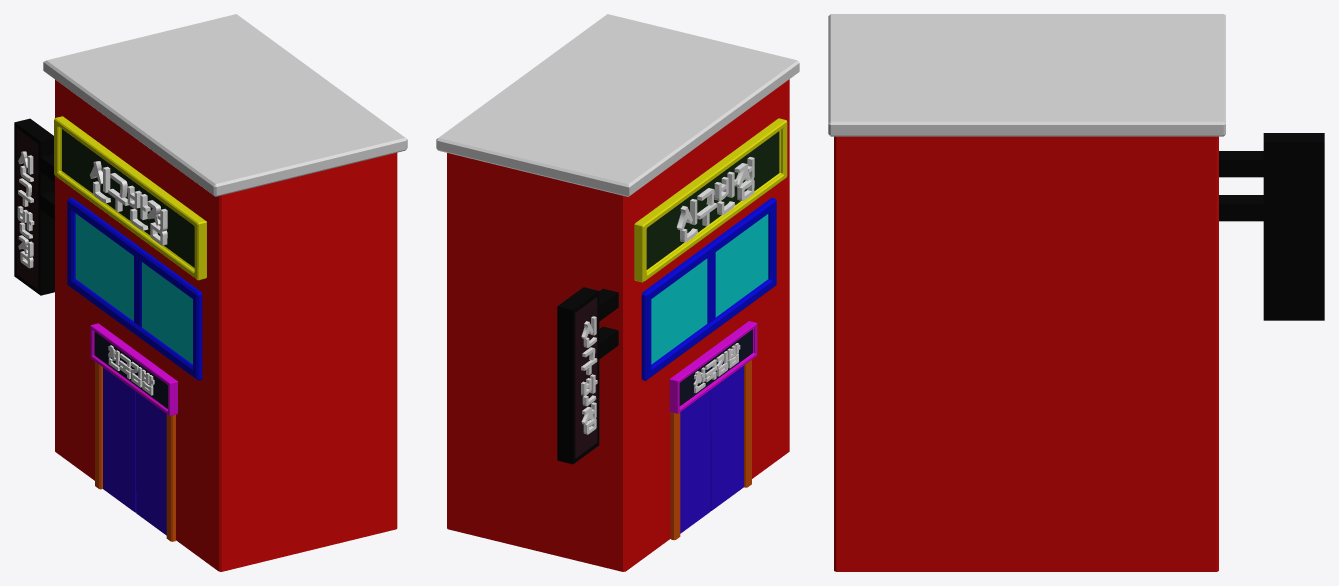
The model's file is Building_2_2.fbx.
3 renders of one model, left to right at view 1: azimuth 30°, elevation 25°; view 2: azimuth 150°, elevation 25°; view 3: azimuth 270°, elevation 25°, orthographic. The views are drawn at different scales.
Parts seen in each view (by area): view 1: polySurface1487, polySurface1486, polySurface1500, polySurface1497, typeMesh22, typeMesh23, typeMesh24; view 2: polySurface1487, polySurface1486, polySurface1500, polySurface1497, typeMesh22, typeMesh23, typeMesh24; view 3: polySurface1487, polySurface1500.
Part boxes in pixels (x1,y1,x2,y2): polySurface1487: (31,14,407,571); polySurface1486: (54,116,206,280); polySurface1500: (14,118,54,295); polySurface1497: (90,323,177,415); typeMesh22: (90,161,167,245); typeMesh23: (17,151,34,268); typeMesh24: (108,345,154,395); polySurface1487: (436,14,799,571); polySurface1486: (634,118,787,282); polySurface1500: (557,287,599,464); polySurface1497: (669,321,757,413); typeMesh22: (676,157,754,242); typeMesh23: (581,316,597,434); typeMesh24: (693,343,740,393); polySurface1487: (828,14,1286,571); polySurface1500: (1263,133,1324,320).
Size of the model in its own units: 98.99 by 188 by 186.
